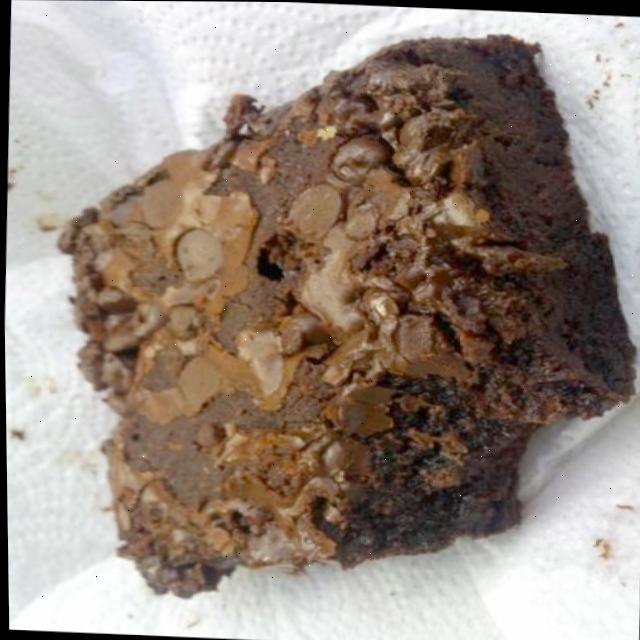蛋糕甜品: (25, 11, 640, 640)
